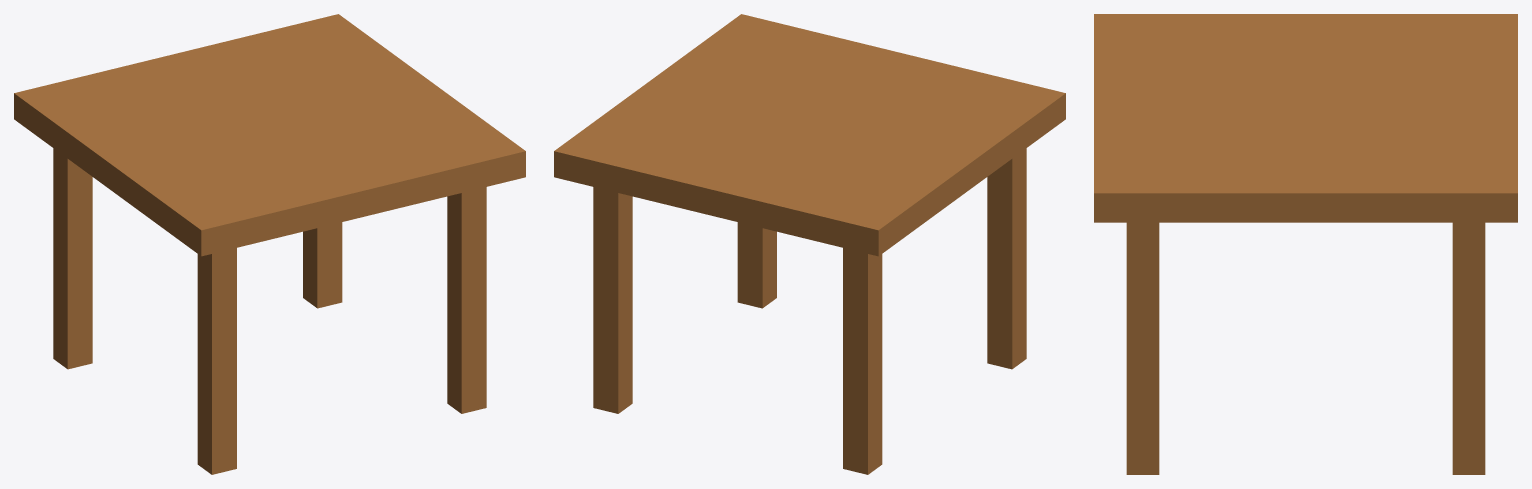
File: Small Table.obj
3 renders of one model, left to right at view 1: azimuth 30°, elevation 25°; view 2: azimuth 150°, elevation 25°; view 3: azimuth 270°, elevation 25°, orthographic. The views are drawn at different scales.
Parts seen in each view (by area): view 1: Small Table; view 2: Small Table; view 3: Small Table.
Part boxes in pixels (<box>): Small Table: <box>14,14,525,474</box>; Small Table: <box>554,14,1065,474</box>; Small Table: <box>1094,14,1517,474</box>.
Bounding box in the file's own units: 13 × 10 × 13.
